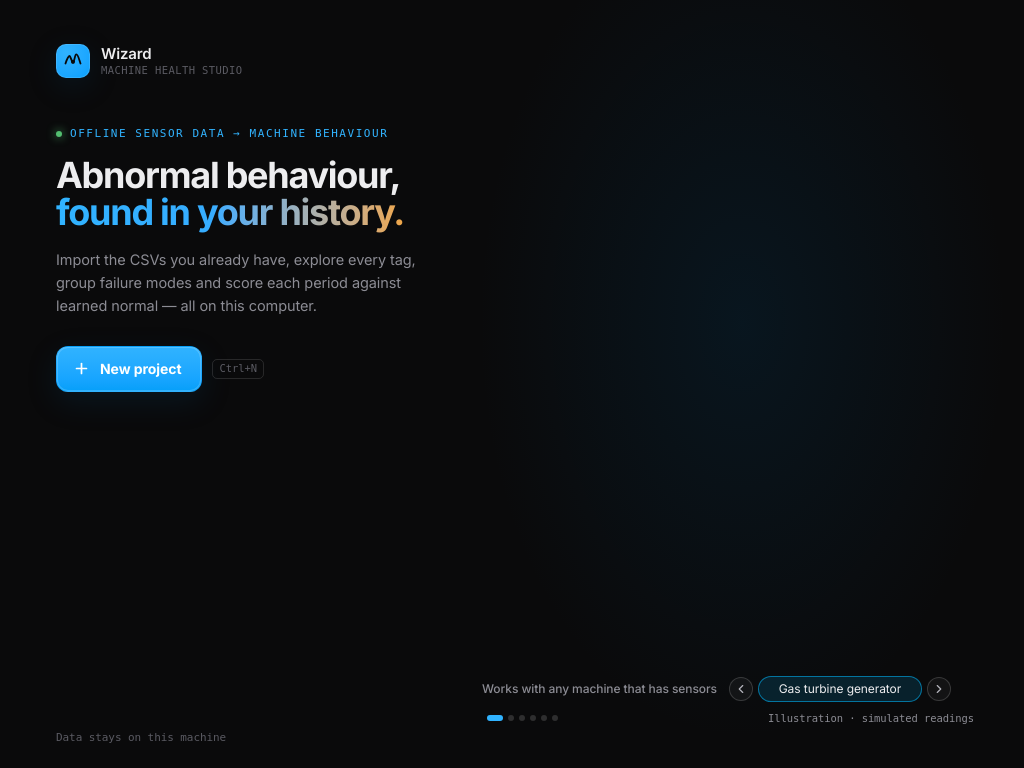
it: B. File selection › B10. selected files render in the list with filename only
Click the button "New project" at [129, 369], box [56,346,202,392]
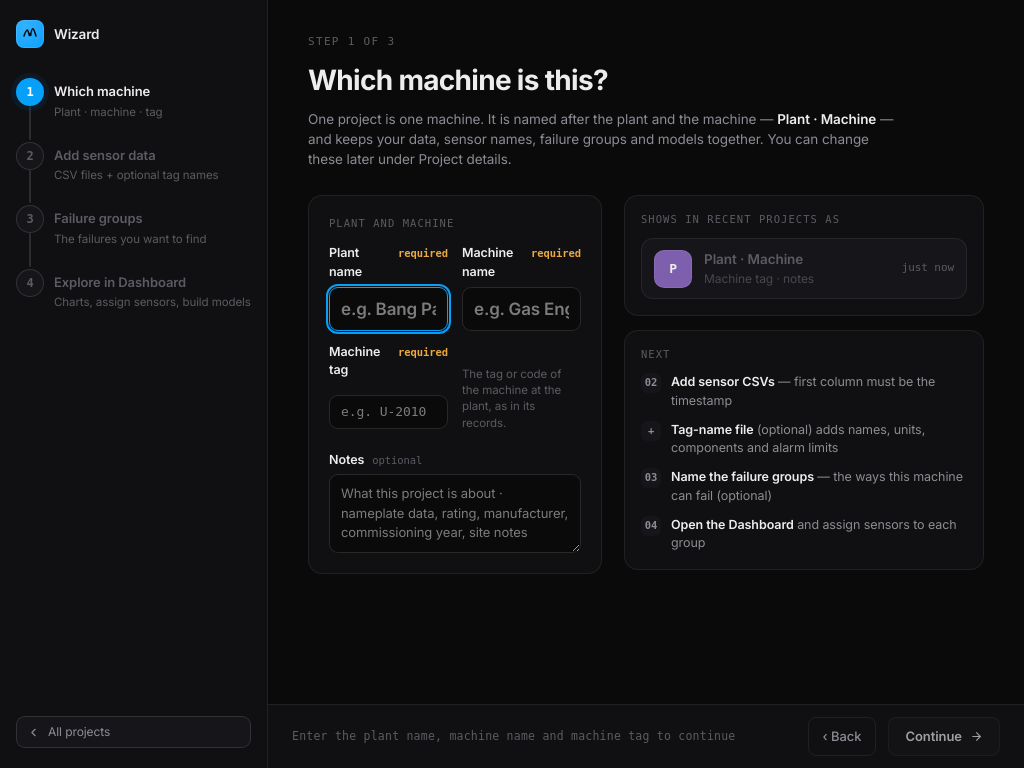
Type "Test plant" into the field with placeholder "e.g. Bang Pakong" at [388, 308], box [329,286,448,330]
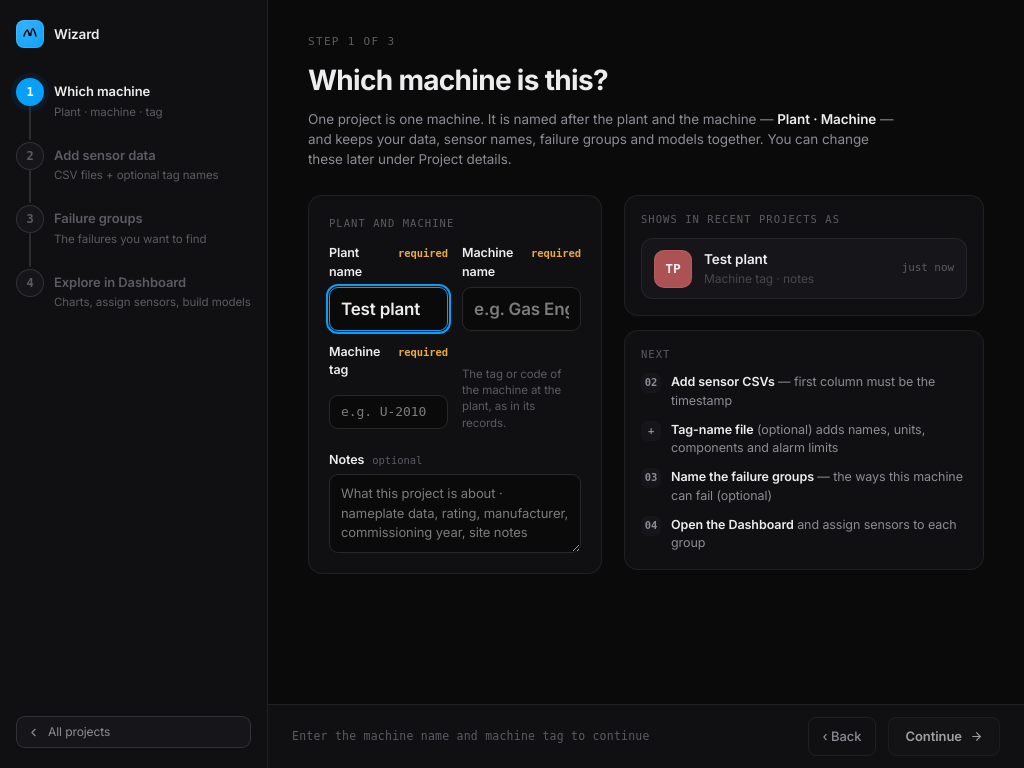
Type "Test machine" into the field with placeholder "e.g. Gas Engine Generator 4" at [522, 308], box [462,286,581,330]
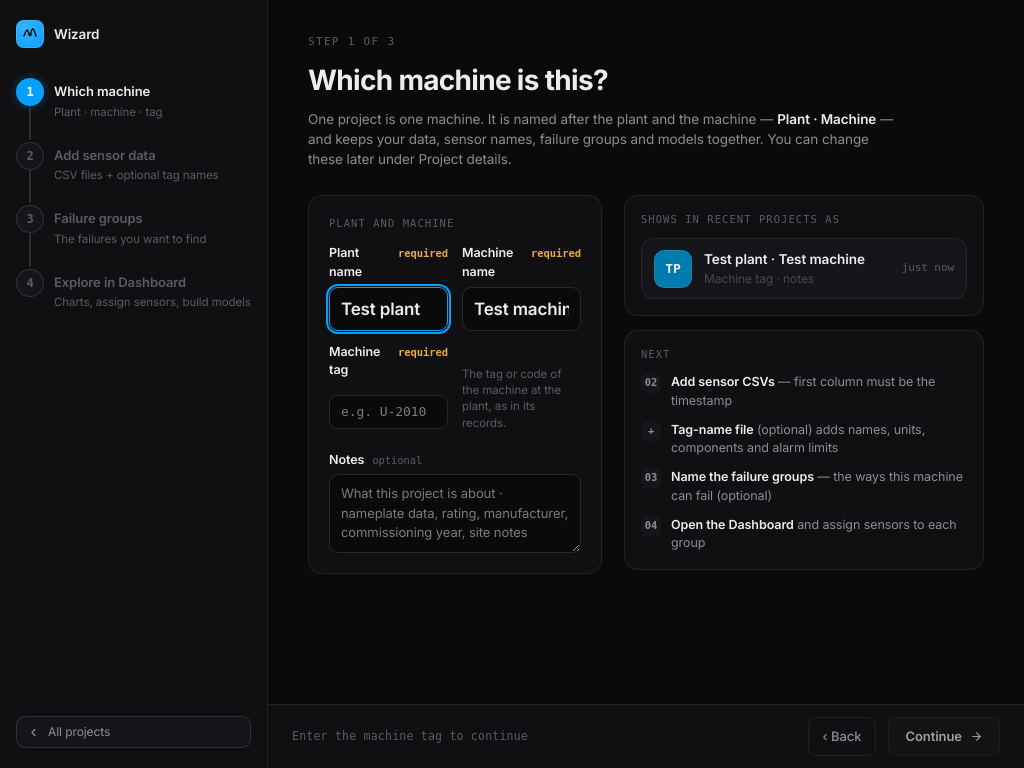
Type "T-1" into the field with placeholder "e.g. U-2010" at [388, 412], box [329,395,448,429]
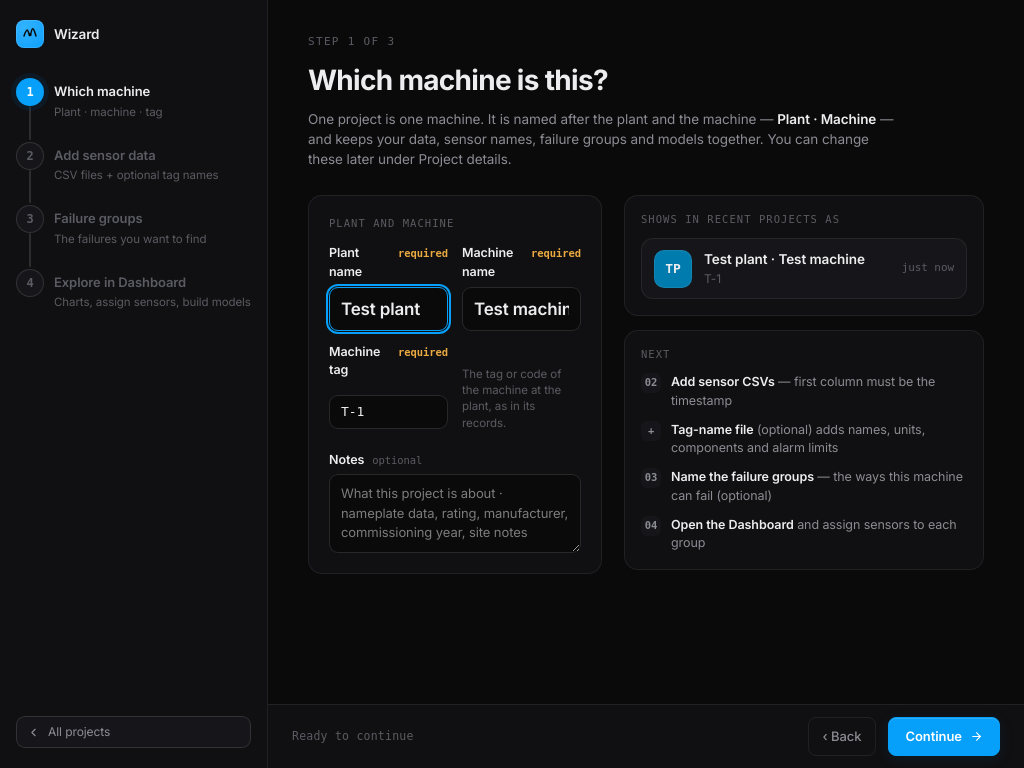
Click the button "Continue" at [944, 736], box [888,716,1000,756]
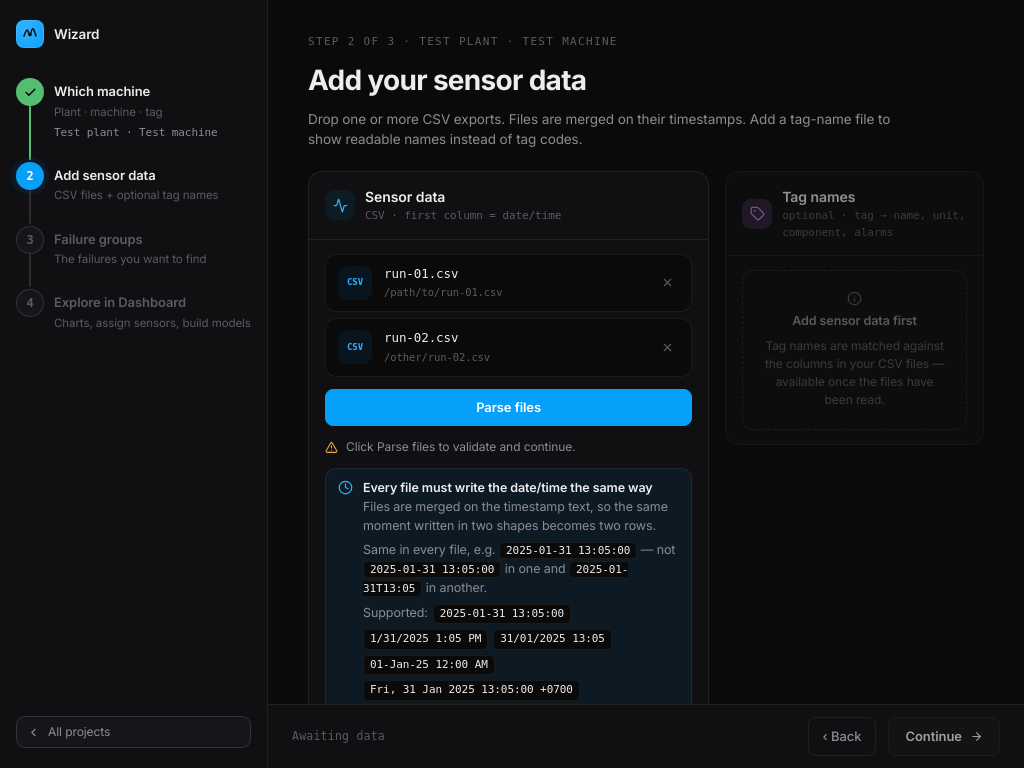
Result: the text "run-01.csv" is shown at [384,266,458,280]
Result: the text "run-02.csv" is shown at [384,330,458,345]
Result: the text "/path/to/run-01.csv" is shown at [384,286,503,298]
